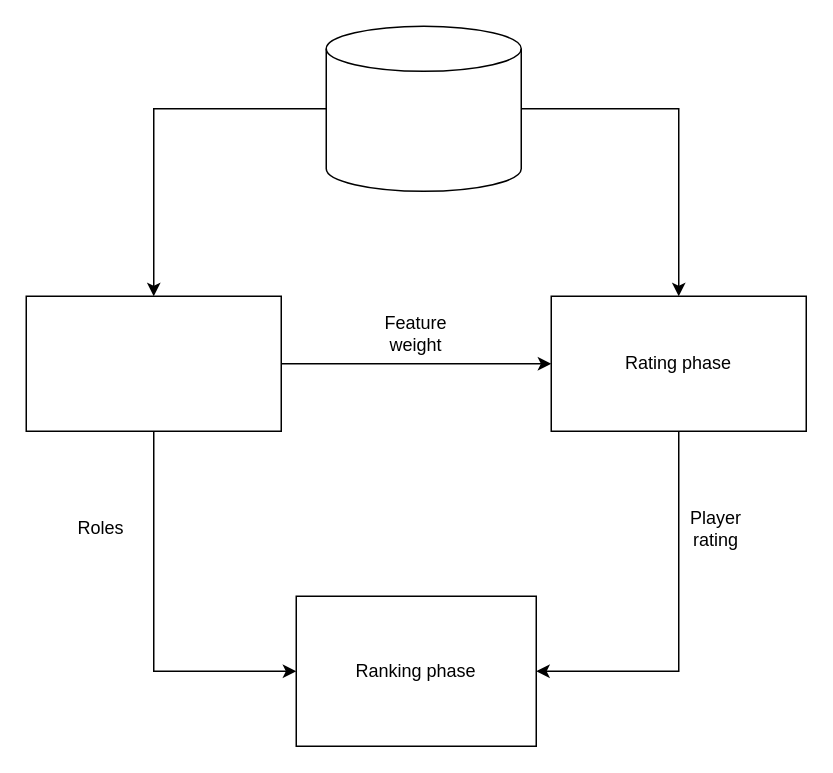
Image size: 833x773. Some labels were removed from this diagram. Here are the shapes that lost their labels. From the top down, the box of each, then its label:
(325, 25, 521, 191): Database
(25, 295, 281, 431): Learning phase
